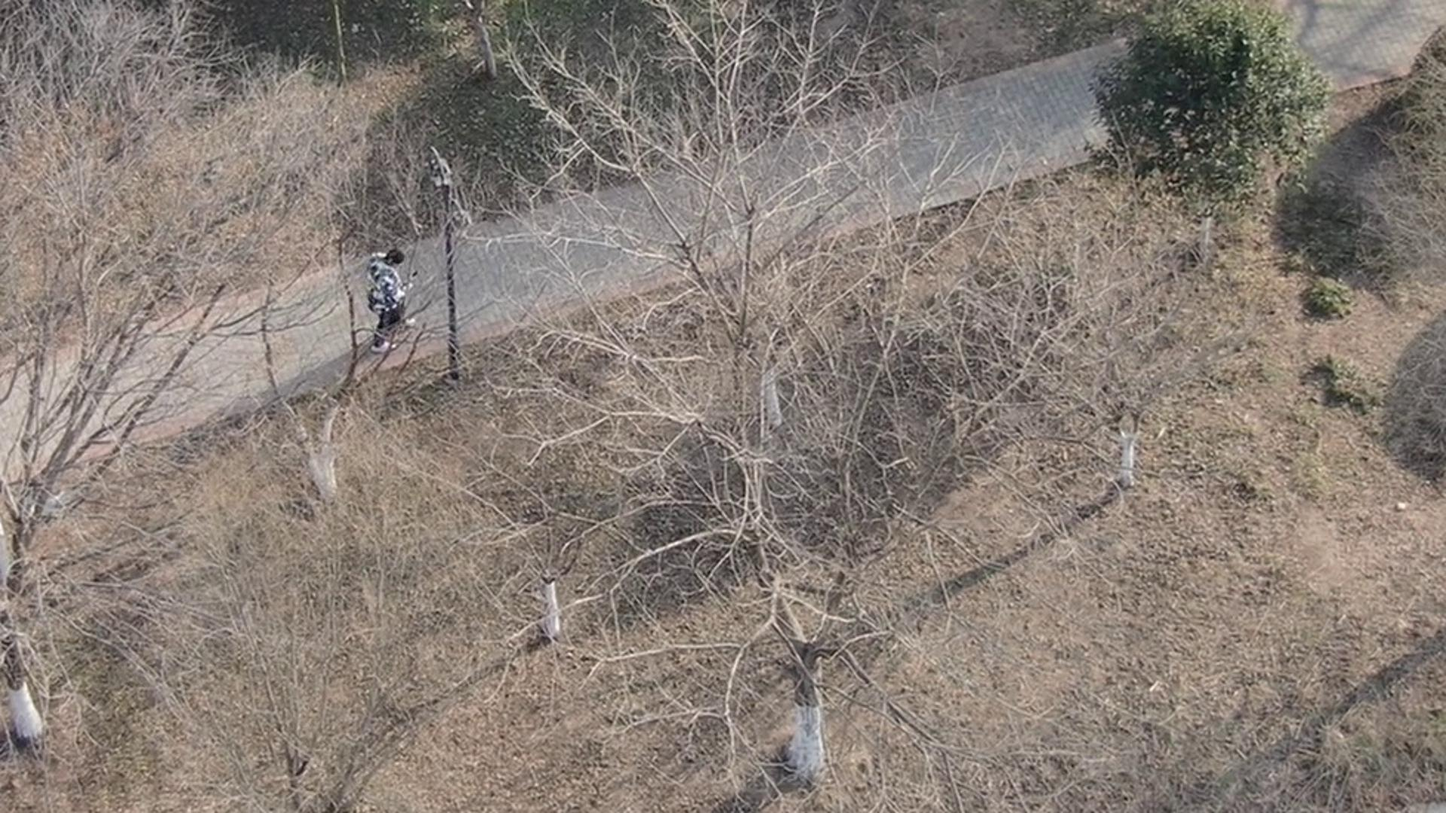human: (374, 259, 438, 356)
